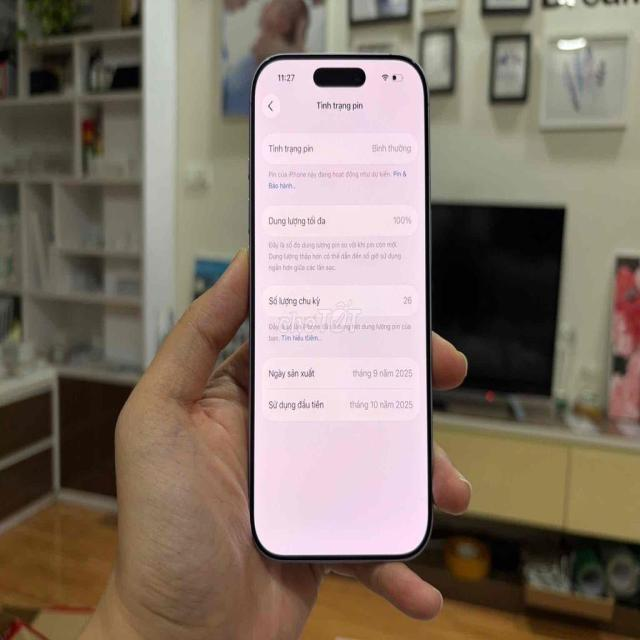gen_17: (243, 48, 435, 574)
